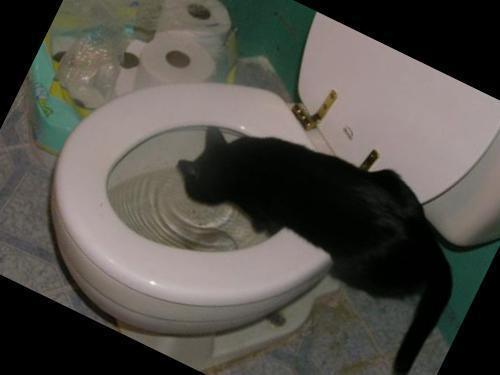Otro Obstaculo: (127, 77, 498, 375)
Sanitario: (4, 0, 500, 375)
